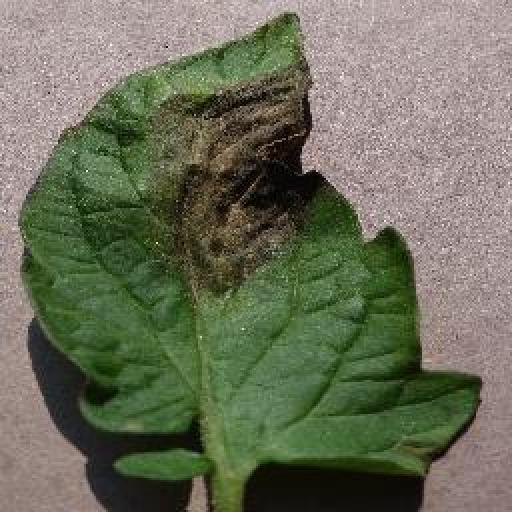Late Blight: (20, 10, 487, 478)
